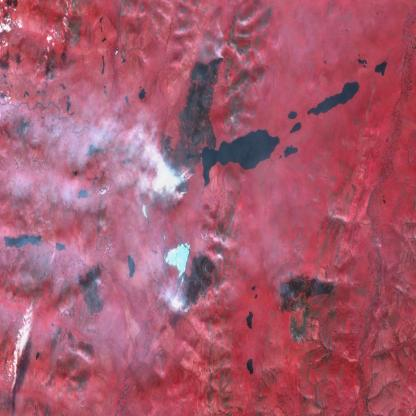fire: (148, 120, 198, 214), (170, 277, 199, 327)
